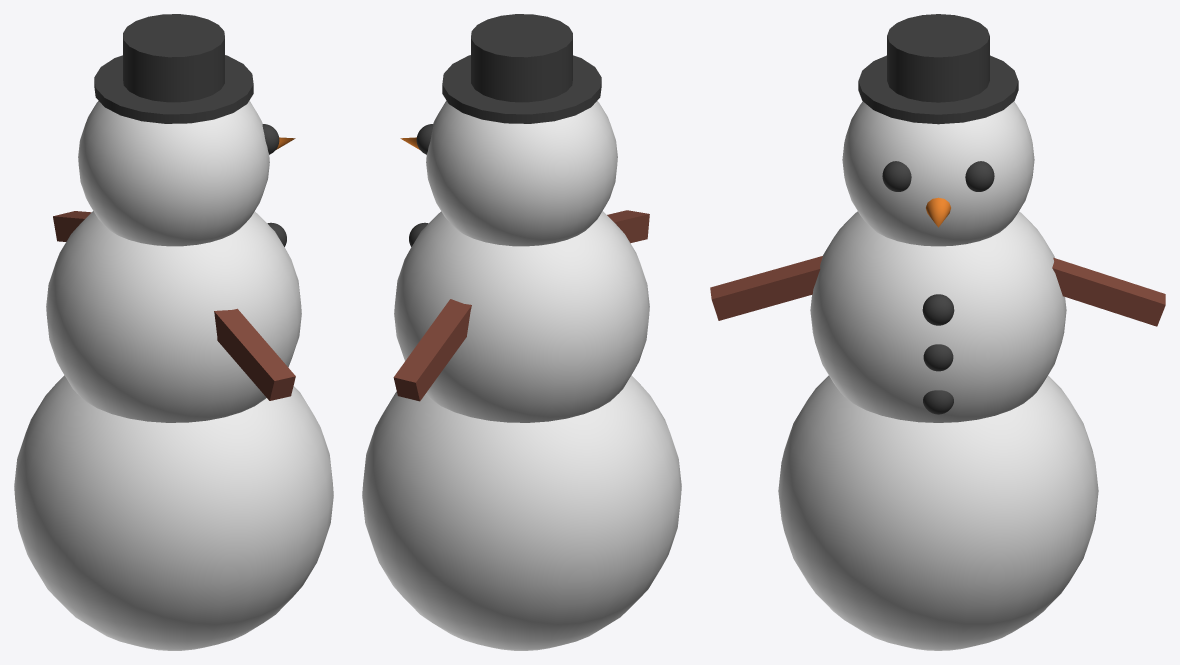
Rendered from snowman (1).fbx.
The picture shows the model from 3 angles, left to right: view 1: azimuth 30°, elevation 25°; view 2: azimuth 150°, elevation 25°; view 3: azimuth 270°, elevation 25°; orthographic projection.
Visible parts, largest first — view 1: Sphere, Sphere.001, Sphere.002, Circle, Cube.001, Cube; view 2: Sphere, Sphere.001, Sphere.002, Circle, Cube, Cube.001; view 3: Sphere, Sphere.001, Sphere.002, Circle, Cube, Cube.001, Sphere.003, Sphere.004, Sphere.005, Sphere.006.
Boxes of the visible parts, bbox=[...] form: Sphere: bbox=[14, 375, 333, 650]; Sphere.001: bbox=[46, 211, 301, 422]; Sphere.002: bbox=[78, 100, 269, 246]; Circle: bbox=[94, 14, 253, 123]; Cube.001: bbox=[214, 308, 295, 400]; Cube: bbox=[53, 211, 91, 241]; Sphere: bbox=[362, 375, 681, 650]; Sphere.001: bbox=[394, 211, 649, 422]; Sphere.002: bbox=[426, 100, 617, 246]; Circle: bbox=[442, 14, 601, 123]; Cube: bbox=[393, 299, 471, 401]; Cube.001: bbox=[607, 210, 649, 243]; Sphere: bbox=[778, 375, 1098, 650]; Sphere.001: bbox=[810, 211, 1066, 422]; Sphere.002: bbox=[842, 101, 1034, 246]; Circle: bbox=[858, 14, 1018, 124]; Cube: bbox=[1052, 257, 1165, 326]; Cube.001: bbox=[710, 256, 822, 320]; Sphere.003: bbox=[922, 294, 954, 325]; Sphere.004: bbox=[965, 161, 994, 191]; Sphere.005: bbox=[882, 161, 911, 191]; Sphere.006: bbox=[923, 344, 953, 371].
Bounding box in the file's own units: 200 × 414 × 285.
